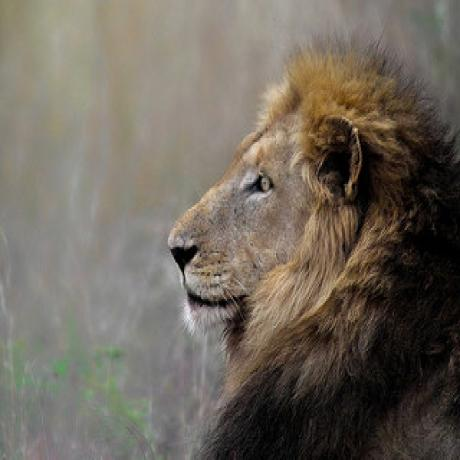Lion: (169, 33, 460, 460)
